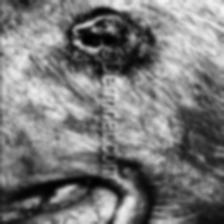Potentially Malignant Skin Tumors: (70, 6, 152, 72)
